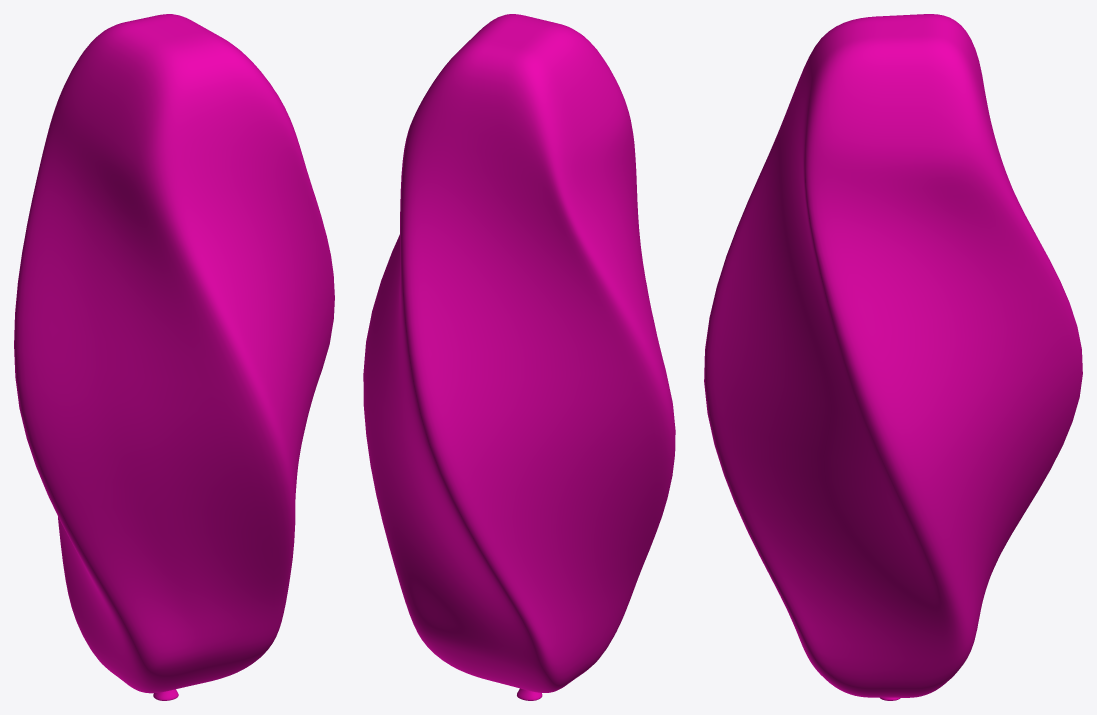
File: TwistedBalloon.fbx
3 views of the same model, side by side, from view 1: azimuth 30°, elevation 25°; view 2: azimuth 150°, elevation 25°; view 3: azimuth 270°, elevation 25° (orthographic).
Parts seen in each view (by area): view 1: TwistyBalloon; view 2: TwistyBalloon; view 3: TwistyBalloon.
Part boxes in pixels (x1,y1,x2,y2): TwistyBalloon: [14, 14, 334, 700]; TwistyBalloon: [363, 14, 675, 700]; TwistyBalloon: [704, 14, 1082, 700].
Size of the model in its own units: 46.77 by 97.42 by 49.79.
